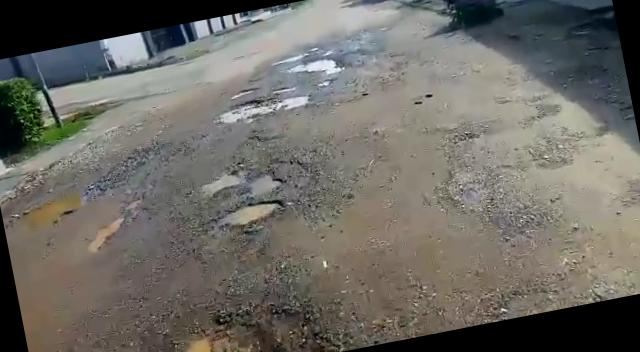pothole: (213, 87, 308, 125), (201, 163, 285, 204), (158, 326, 273, 352), (213, 194, 290, 231), (284, 52, 344, 78), (230, 83, 262, 96)
